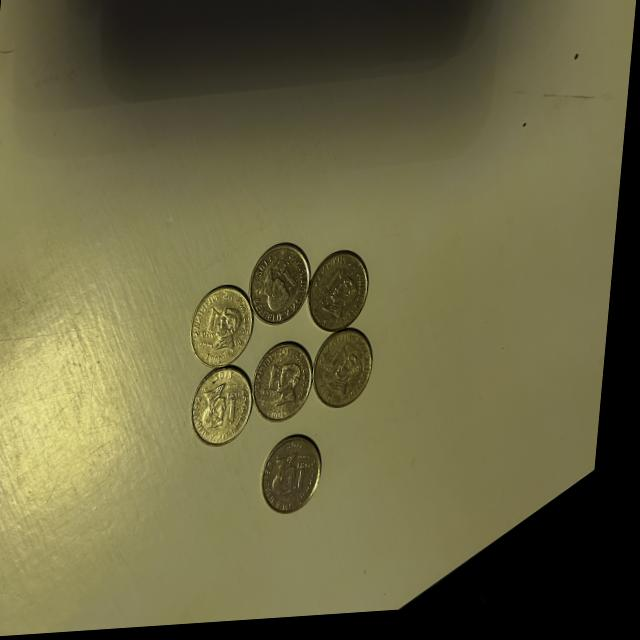1_Old_Front: (325, 343, 372, 402), (300, 457, 321, 508), (266, 368, 290, 407), (280, 261, 308, 294), (229, 391, 252, 430), (203, 311, 227, 346), (325, 269, 352, 300)
